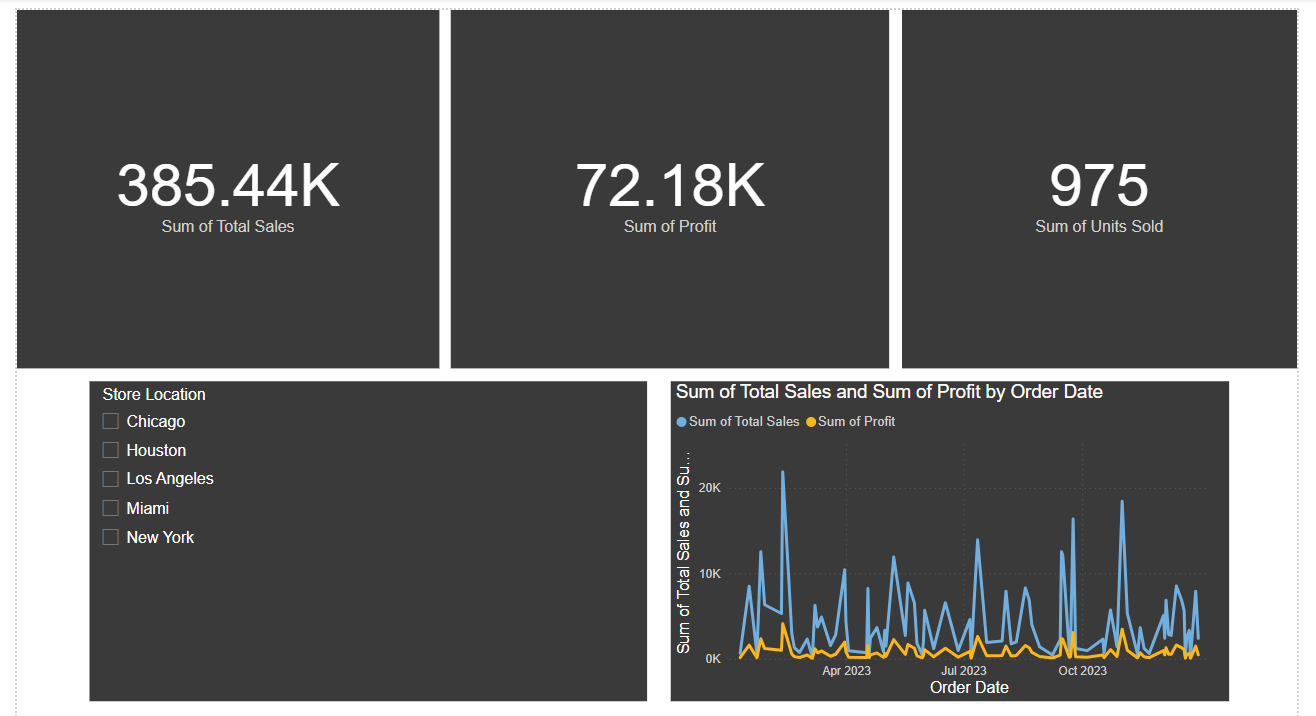

Layout of this report page (visuals, bound fields, positions):
{"tool":"powerbi","page":{"name":"Page 1","canvas":[1280,720],"ordinal":0},"visuals":[{"type":"card","fields":{"Values":["Sum(RetailSalesSample.Total Sales)"]},"box":[0,0,422.5,358.8],"z":0},{"type":"card","fields":{"Values":["Sum(RetailSalesSample.Profit)"]},"box":[433.8,0,438.8,358.8],"z":1000},{"type":"card","fields":{"Values":["Sum(RetailSalesSample.Units Sold)"]},"box":[885,0,395,358.8],"z":2000},{"type":"lineChart","fields":{"Category":["RetailSalesSample.Order Date"],"Y":["Sum(RetailSalesSample.Total Sales)","Sum(RetailSalesSample.Profit)"]},"box":[653.8,371.2,558.8,320],"z":3000},{"type":"slicer","fields":{"Values":["RetailSalesSample.Store Location"]},"box":[72.5,371.2,557.5,320],"z":4000}]}

Visuals, with their boxes in screenshot pixels (x1, y1, x2, y2):
card - Sum(RetailSalesSample.Total Sales): box=[7, 0, 437, 365]
card - Sum(RetailSalesSample.Profit): box=[448, 0, 894, 365]
card - Sum(RetailSalesSample.Units Sold): box=[907, 0, 1309, 365]
lineChart - RetailSalesSample.Order Date x Sum(RetailSalesSample.Total Sales): box=[672, 378, 1240, 703]
slicer - RetailSalesSample.Store Location: box=[81, 378, 648, 703]
